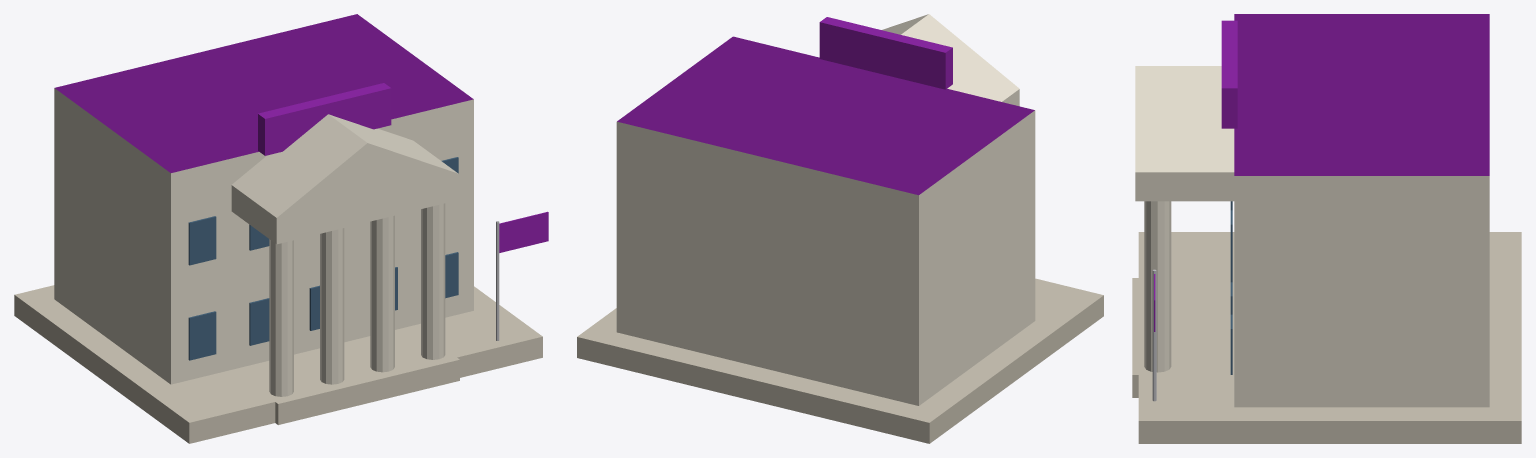
Rendered from gov_min_tourism.glb.
3 renders of one model, left to right at view 1: azimuth 30°, elevation 25°; view 2: azimuth 150°, elevation 25°; view 3: azimuth 270°, elevation 25°, orthographic. The views are drawn at different scales.
Parts seen in each view (by area): view 1: box; view 2: box; view 3: box.
Boxes of the visible parts, x1=… form: box: x1=14, y1=14, x2=548, y2=443; box: x1=577, y1=14, x2=1103, y2=443; box: x1=1132, y1=14, x2=1521, y2=443.
Size of the model in its own units: 14.5 by 10.2 by 12.2.
